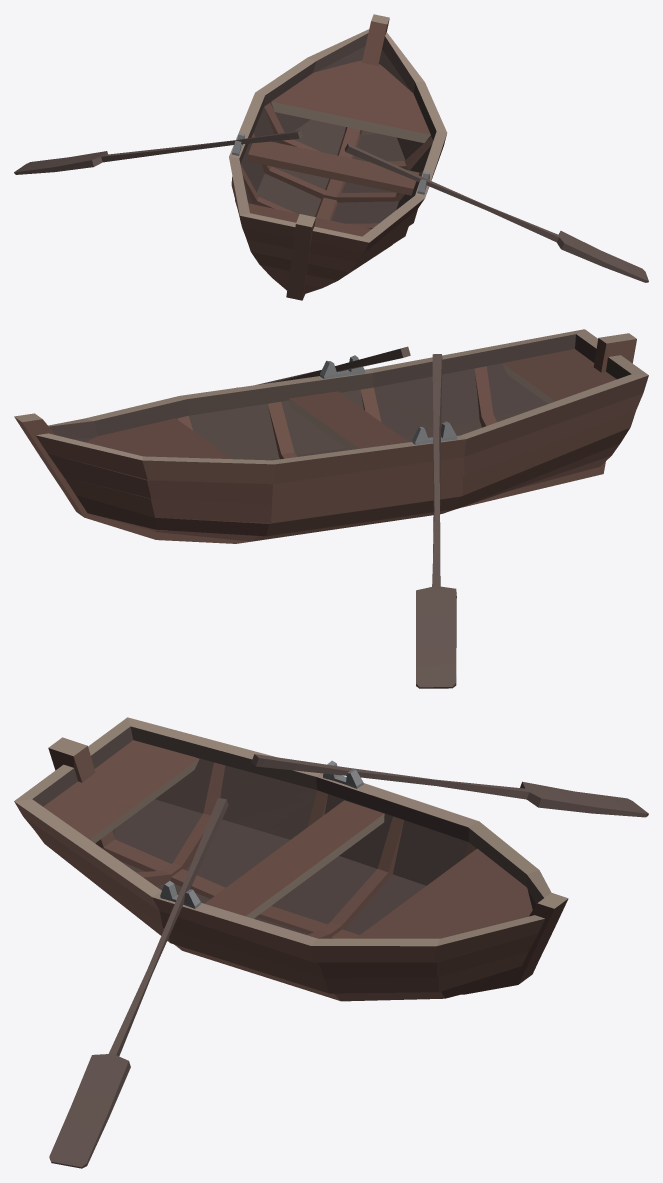
The model's file is boat.glb.
3 views of the same model, one above another, from view 1: azimuth 30°, elevation 25°; view 2: azimuth 150°, elevation 25°; view 3: azimuth 270°, elevation 25° (orthographic). The views are drawn at different scales.
Parts seen in each view (by area): view 1: boat; view 2: boat; view 3: boat.
Boxes of the visible parts, x1,y1,x2,y2 form: boat: (14, 14, 648, 300); boat: (14, 329, 648, 688); boat: (14, 717, 648, 1168).
Size of the model in its own units: 29.88 by 10.85 by 27.81.
Materials: 2 (1 with a texture image).
